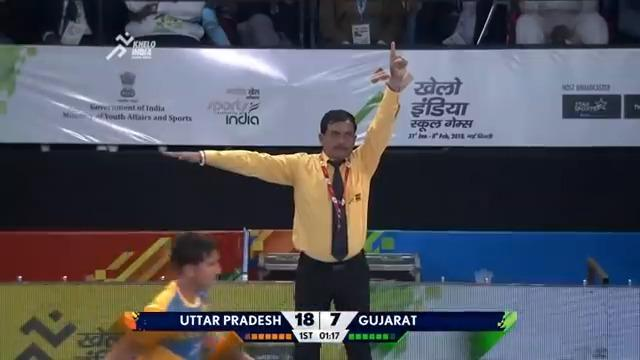Player: (103, 231, 254, 359)
referee: (160, 40, 414, 358)
